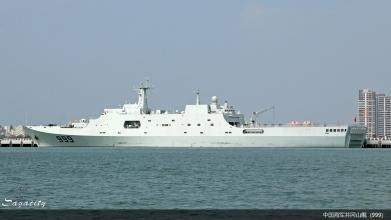warship: (25, 78, 373, 148)
